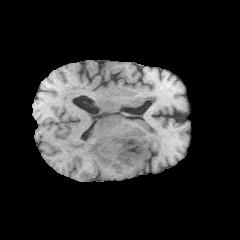glioma: (78, 126, 150, 168)
